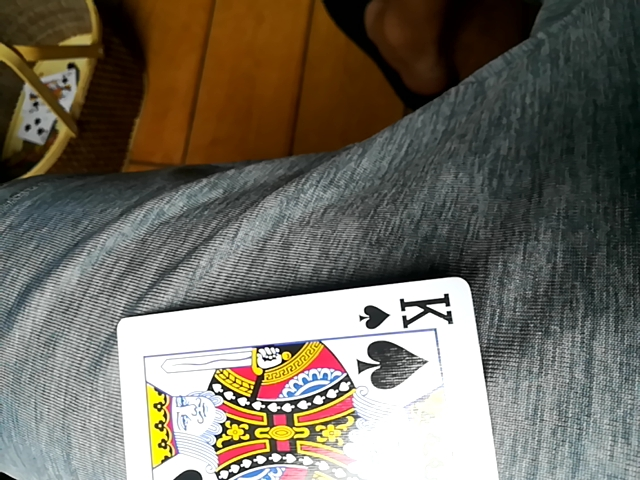ht k: (114, 278, 499, 479)
